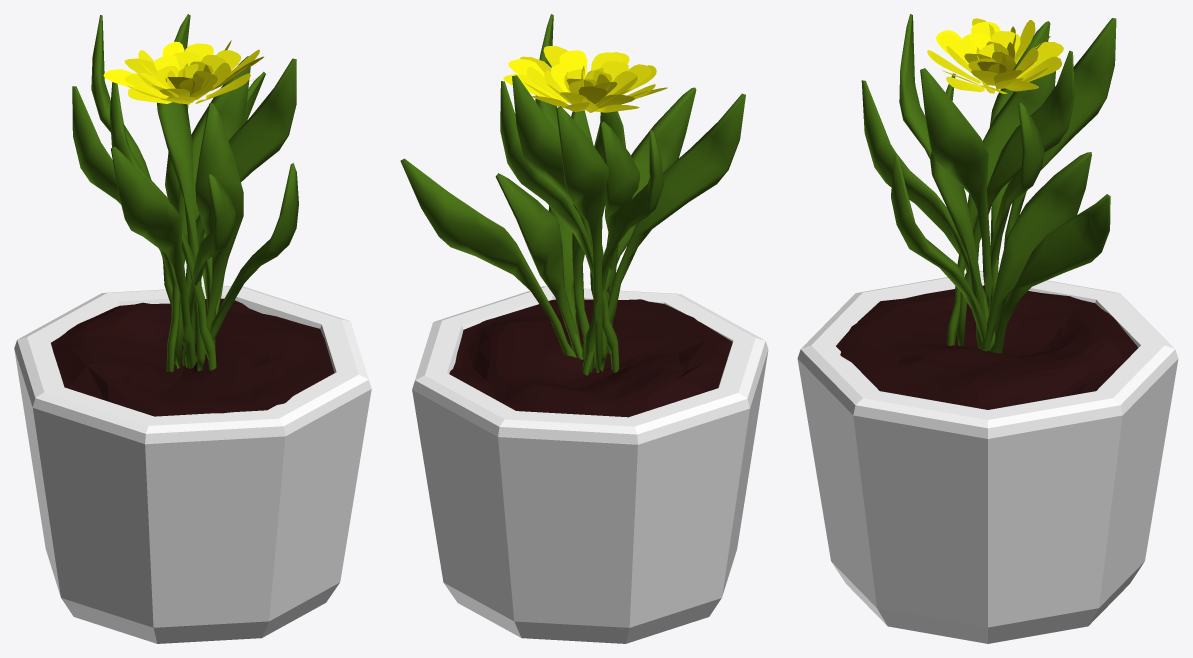
The model's file is calendula.glb.
The picture shows the model from 3 angles, left to right: view 1: azimuth 30°, elevation 25°; view 2: azimuth 150°, elevation 25°; view 3: azimuth 270°, elevation 25°; orthographic projection. The views are drawn at different scales.
Parts seen in each view (by area): view 1: calendula; view 2: calendula; view 3: calendula.
Boxes of the visible parts, x1,y1,x2,y2 form: calendula: [14, 14, 371, 643]; calendula: [400, 14, 768, 643]; calendula: [797, 14, 1178, 643].
Size of the model in its own units: 1.39 by 2.26 by 1.39.
